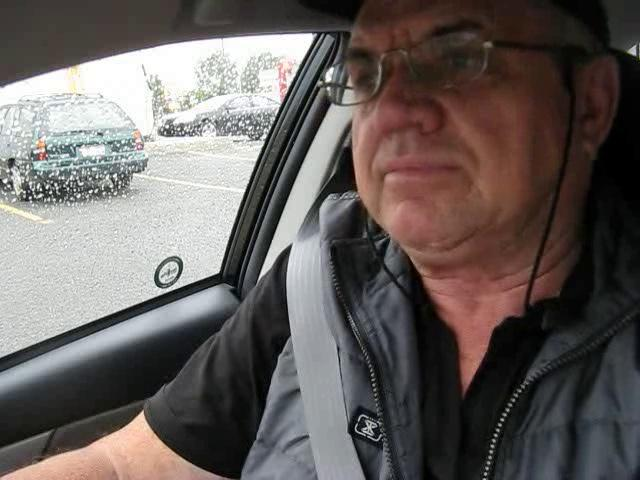no_yawn: (360, 138, 475, 201)
open_eyeL: (333, 51, 394, 103)
open_eyeR: (418, 28, 514, 92)
